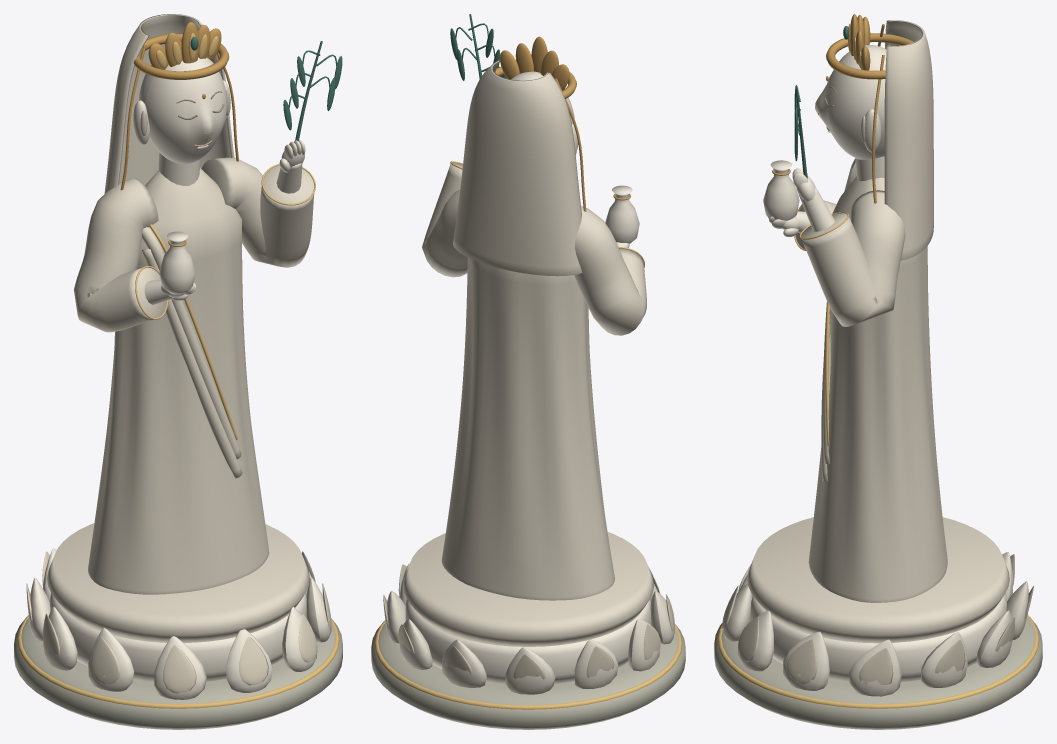
File: quanam.glb
3 renders of one model, left to right at view 1: azimuth 30°, elevation 25°; view 2: azimuth 150°, elevation 25°; view 3: azimuth 270°, elevation 25°, orthographic. The views are drawn at different scales.
Parts seen in each view (by area): view 1: quanam_IvoryDrapery, quanam_WarmPorcelain, quanam_PaleStonePlinth, quanam_PorcelainPetalRelief, quanam_RaisedGoldBorders, quanam_AntiqueGold, quanam_JadeAccents; view 2: quanam_IvoryDrapery, quanam_WarmPorcelain, quanam_PaleStonePlinth, quanam_PorcelainPetalRelief, quanam_AntiqueGold, quanam_RaisedGoldBorders, quanam_JadeAccents; view 3: quanam_IvoryDrapery, quanam_WarmPorcelain, quanam_PaleStonePlinth, quanam_PorcelainPetalRelief, quanam_RaisedGoldBorders, quanam_AntiqueGold, quanam_JadeAccents.
Boxes of the visible parts, x1,y1,x2,y2 form: quanam_IvoryDrapery: [47, 14, 314, 642]; quanam_WarmPorcelain: [28, 57, 331, 699]; quanam_PaleStonePlinth: [14, 617, 342, 729]; quanam_PorcelainPetalRelief: [26, 551, 331, 693]; quanam_RaisedGoldBorders: [17, 33, 339, 708]; quanam_AntiqueGold: [120, 22, 238, 246]; quanam_JadeAccents: [190, 37, 342, 140]; quanam_IvoryDrapery: [402, 60, 654, 646]; quanam_WarmPorcelain: [385, 71, 674, 694]; quanam_PaleStonePlinth: [371, 623, 685, 729]; quanam_PorcelainPetalRelief: [383, 564, 674, 679]; quanam_AntiqueGold: [493, 36, 630, 211]; quanam_RaisedGoldBorders: [374, 161, 682, 709]; quanam_JadeAccents: [450, 14, 506, 80]; quanam_IvoryDrapery: [747, 20, 1009, 643]; quanam_WarmPorcelain: [723, 45, 1028, 696]; quanam_PaleStonePlinth: [714, 617, 1042, 729]; quanam_PorcelainPetalRelief: [722, 554, 1033, 684]; quanam_RaisedGoldBorders: [717, 24, 1039, 708]; quanam_AntiqueGold: [772, 14, 913, 203]; quanam_JadeAccents: [794, 26, 848, 178].
Bounding box in the file's own units: 0.92 × 2.01 × 0.92.
